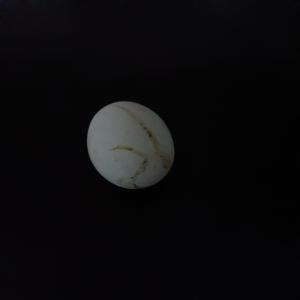Egg: (75, 92, 185, 198)
